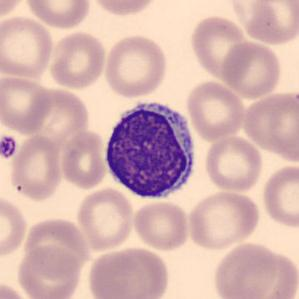Lymphocyte: (100, 96, 198, 204)
Platelets: (0, 134, 18, 160)
RBC: (185, 189, 263, 251), (85, 245, 170, 299), (102, 32, 169, 99), (187, 13, 251, 83), (211, 240, 286, 299), (16, 85, 92, 143), (241, 88, 298, 163), (21, 215, 91, 274), (7, 132, 65, 202), (183, 78, 246, 142), (75, 186, 135, 252), (220, 39, 283, 100), (15, 244, 83, 299), (0, 14, 56, 80), (203, 134, 264, 194), (47, 30, 108, 90), (0, 73, 54, 135), (131, 198, 192, 252), (59, 129, 108, 190), (240, 0, 299, 46), (260, 162, 298, 230), (23, 0, 92, 29), (0, 192, 29, 259), (88, 0, 161, 17), (0, 279, 32, 299), (0, 0, 28, 21)
